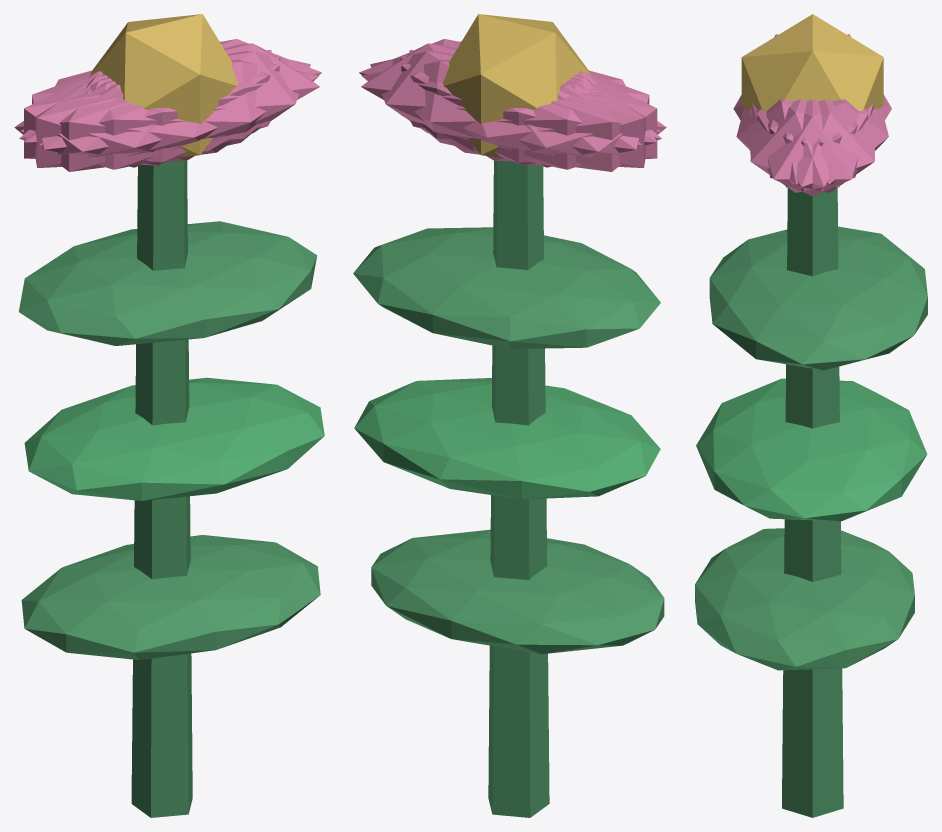
File: syngonium-angustatum.glb
3 renders of one model, left to right at view 1: azimuth 30°, elevation 25°; view 2: azimuth 150°, elevation 25°; view 3: azimuth 270°, elevation 25°, orthographic.
Visible parts, largest first — view 1: leaf0, leaf1, leaf2, stem, center, petal1, petal6, petal2, petal5, petal7, petal0, petal4 (+2 smaller); view 2: leaf2, leaf1, leaf0, stem, center, petal8, petal3, petal7, petal4, petal2, petal0, petal5 (+2 smaller); view 3: leaf1, leaf2, leaf0, stem, center, petal0, petal5, petal4, petal1, petal8.
Boxes of the visible parts, <box> form: leaf0: <box>21,535,320,660</box>; leaf1: <box>24,377,324,500</box>; leaf2: <box>18,221,317,345</box>; stem: <box>131,160,192,817</box>; center: <box>90,14,237,157</box>; petal1: <box>19,59,318,169</box>; petal6: <box>14,73,231,171</box>; petal2: <box>35,50,271,167</box>; petal5: <box>39,51,310,162</box>; petal7: <box>24,56,280,165</box>; petal0: <box>90,43,319,151</box>; petal4: <box>20,39,321,142</box>; leaf2: <box>353,227,660,348</box>; leaf1: <box>354,378,660,499</box>; leaf0: <box>371,529,664,654</box>; stem: <box>488,160,549,817</box>; center: <box>443,14,590,157</box>; petal8: <box>362,59,661,169</box>; petal3: <box>449,73,666,171</box>; petal7: <box>409,50,645,167</box>; petal4: <box>370,51,641,162</box>; petal2: <box>400,56,657,165</box>; petal0: <box>361,43,591,151</box>; petal5: <box>359,39,660,142</box>; leaf1: <box>696,378,927,521</box>; leaf2: <box>709,226,927,370</box>; leaf0: <box>695,528,914,670</box>; stem: <box>782,188,843,817</box>; center: <box>741,14,883,110</box>; petal0: <box>752,99,873,196</box>; petal5: <box>750,99,868,192</box>; petal4: <box>757,99,875,192</box>; petal1: <box>736,99,857,184</box>; petal8: <box>768,99,888,184</box>.
Size of the model in its own units: 0.1452 by 0.3672 by 0.1004.
